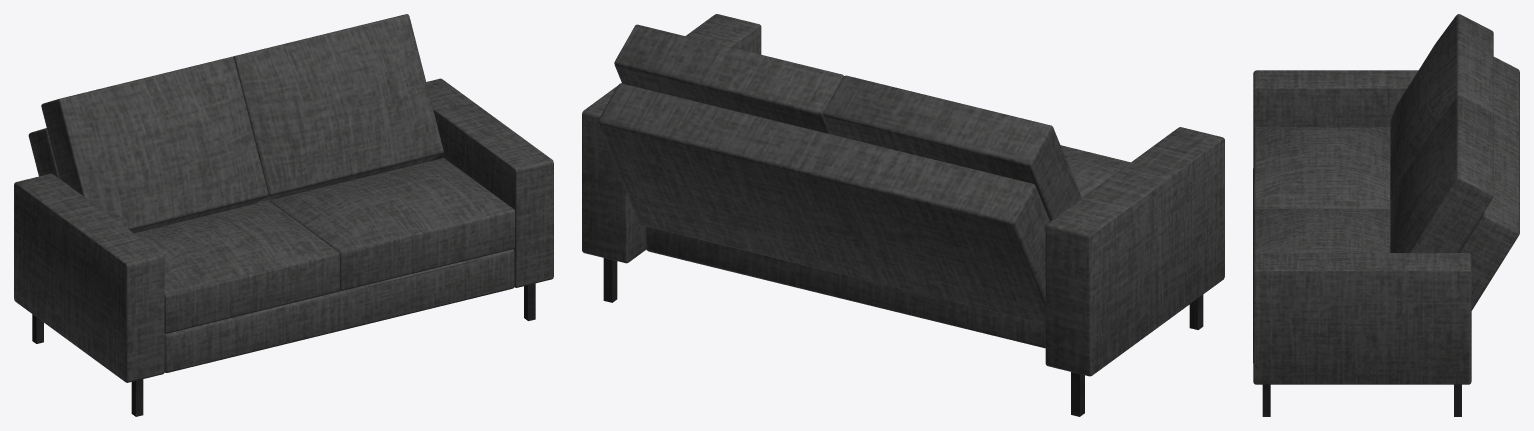
File: Max_model_Sofa.fbx
3 renders of one model, left to right at view 1: azimuth 30°, elevation 25°; view 2: azimuth 150°, elevation 25°; view 3: azimuth 270°, elevation 25°, orthographic. The views are drawn at different scales.
Visible parts, largest first — view 1: Sofa; view 2: Sofa; view 3: Sofa.
Part boxes in pixels (<box>): Sofa: <box>14,14,553,416</box>; Sofa: <box>582,14,1224,416</box>; Sofa: <box>1253,14,1519,416</box>.
Bounding box in the file's own units: 244 × 137 × 129.
